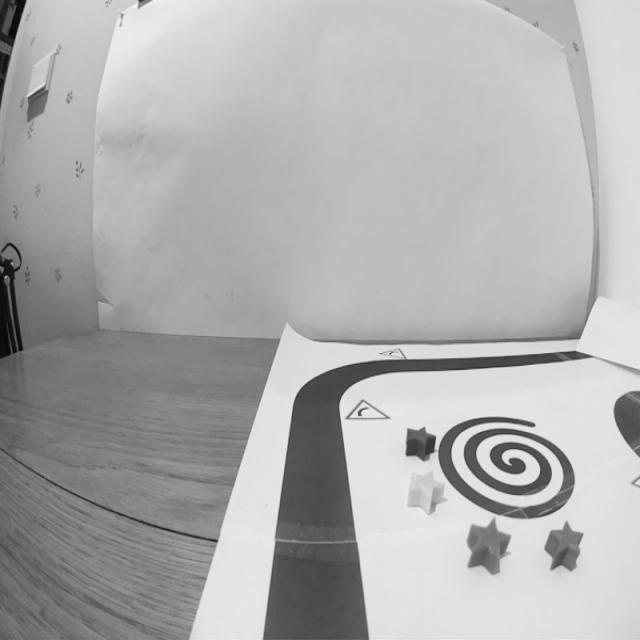lineStraight: (255, 506, 378, 640)
nest: (438, 408, 580, 522)
star: (465, 516, 512, 575), (405, 466, 447, 519), (544, 520, 586, 572), (405, 427, 436, 461)
